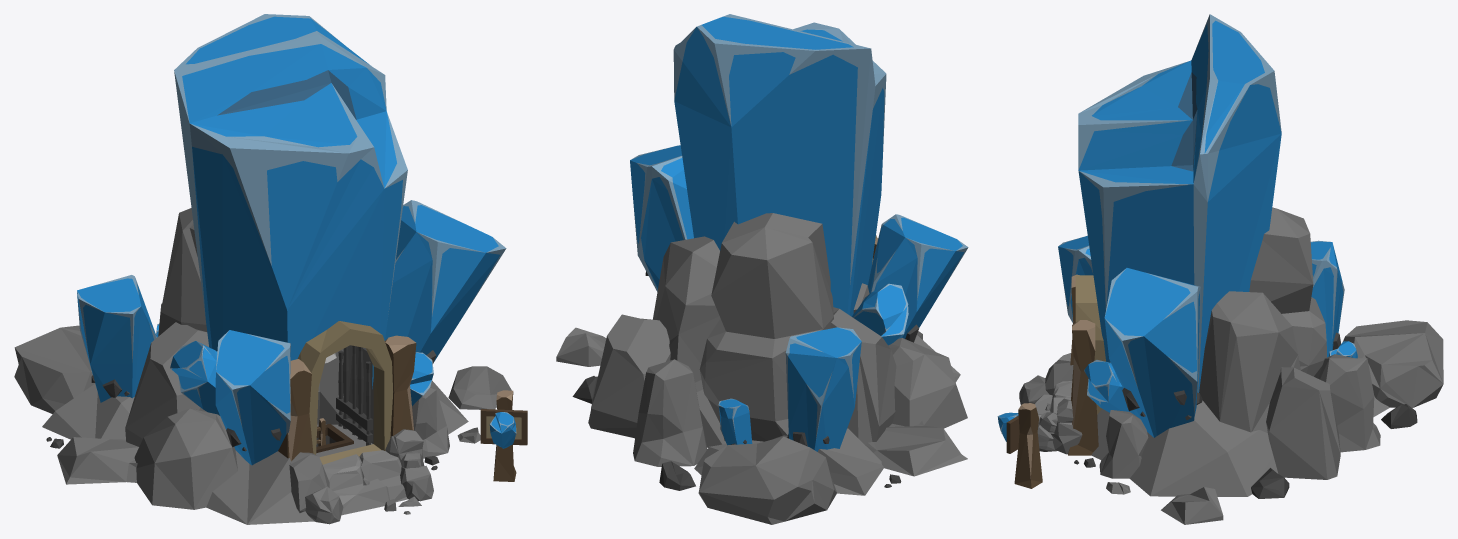
Rendered from Mine_01.FBX.
3 views of the same model, side by side, from view 1: azimuth 30°, elevation 25°; view 2: azimuth 150°, elevation 25°; view 3: azimuth 270°, elevation 25° (orthographic). The views are drawn at different scales.
Visible parts, largest first — view 1: Mine_01; view 2: Mine_01; view 3: Mine_01.
Boxes of the visible parts, x1,y1,x2,y2 form: Mine_01: [14, 14, 527, 524]; Mine_01: [556, 14, 968, 524]; Mine_01: [997, 14, 1443, 524].
Bounding box in the file's own units: 15.03 × 13.2 × 14.59.
